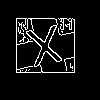X: (25, 25, 67, 76)
